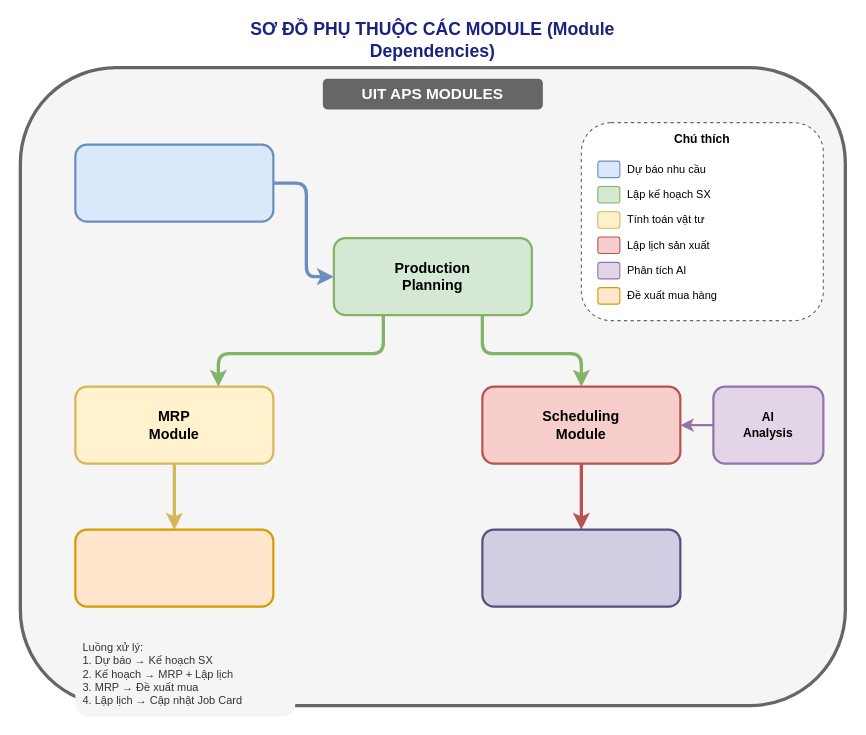
This 866x735 diagram has some shape labels left out. Each missing label, with the centre of its shape:
Forecasting Module: (x=174, y=182)
Job Card Update: (x=581, y=567)
Purchase Suggestion: (x=174, y=567)
